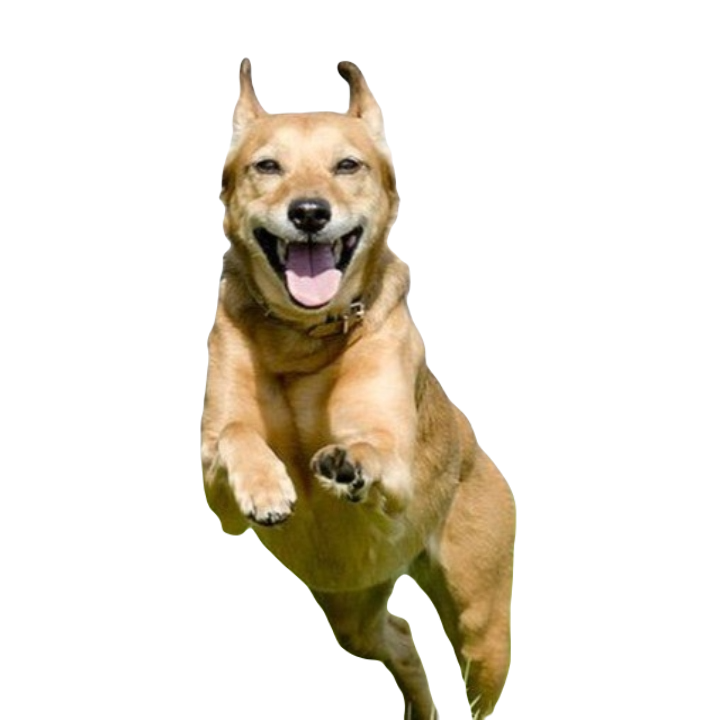Dog: (198, 43, 521, 719)
